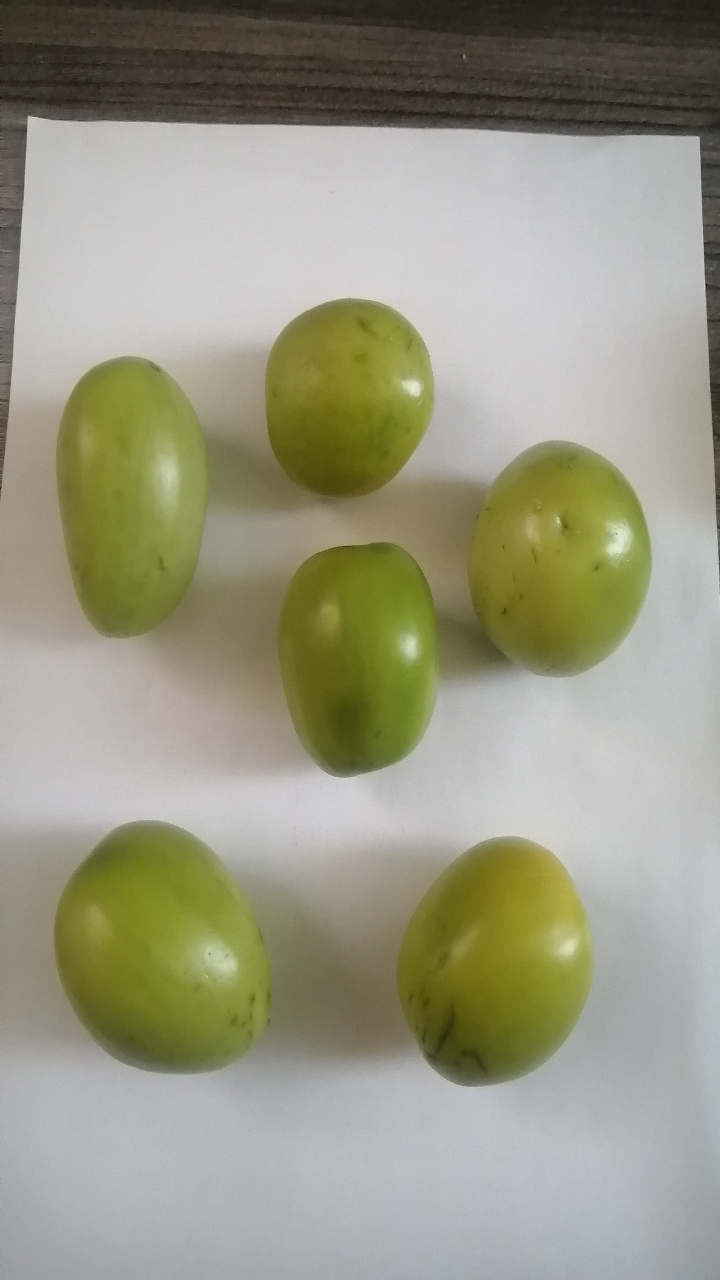tomateVerde: (37, 789, 291, 1094), (366, 819, 604, 1097), (458, 400, 663, 708), (41, 342, 226, 665), (261, 525, 454, 792), (234, 280, 440, 512)
